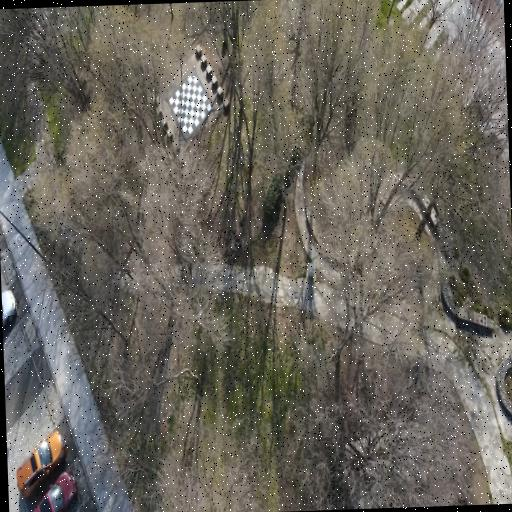car: (17, 431, 66, 497), (34, 470, 78, 511), (2, 291, 17, 326)
